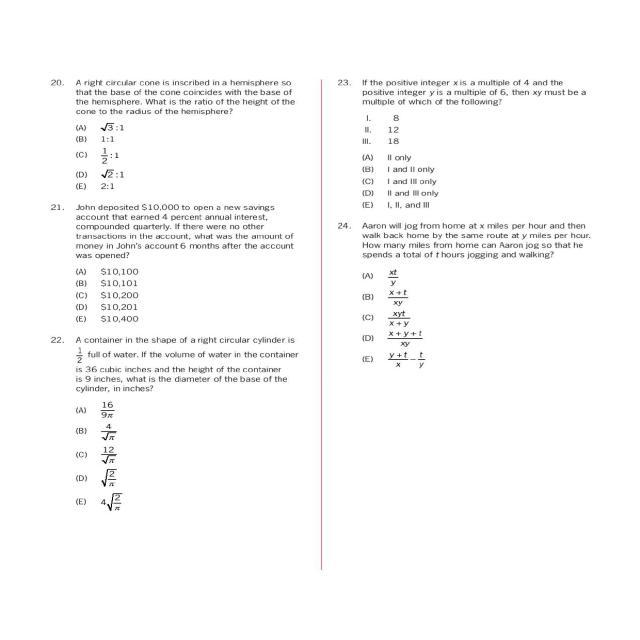Answer_Block: (328, 264, 602, 570), (35, 394, 310, 570), (35, 118, 310, 196), (328, 145, 602, 217), (35, 260, 310, 326)
Question_Answer_Block: (328, 220, 602, 570), (35, 331, 310, 571), (328, 74, 602, 217), (35, 199, 310, 325), (35, 75, 310, 196)
Question_Block: (328, 74, 602, 147), (35, 330, 310, 396), (35, 199, 310, 262), (328, 220, 602, 263), (35, 75, 310, 117)
Question_Paper_Area: (35, 75, 310, 571), (328, 74, 602, 570)
